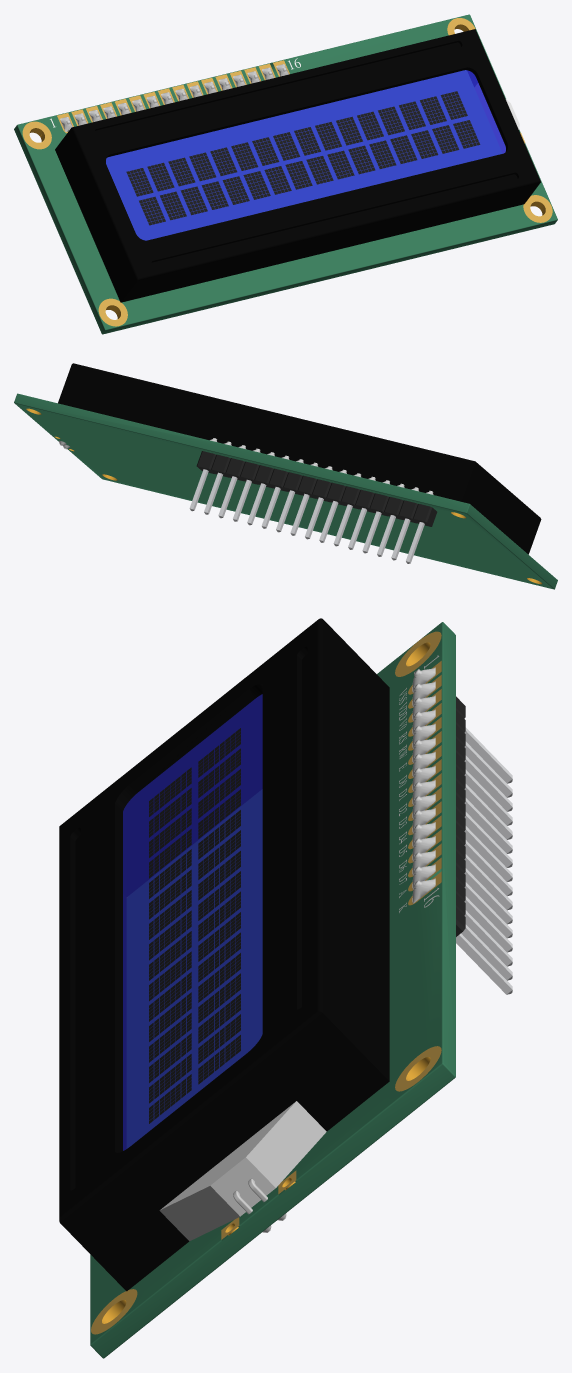
File: 3. LCD 1602.gltf
3 views of the same model, one above another, from view 1: azimuth 30°, elevation 25°; view 2: azimuth 150°, elevation 25°; view 3: azimuth 270°, elevation 25° (orthographic). The views are drawn at different scales.
Parts seen in each view (by area): view 1: Display LCD 16x2.001; view 2: Display LCD 16x2.001; view 3: Display LCD 16x2.001.
Part boxes in pixels (<box>): Display LCD 16x2.001: <box>14,14,557,334</box>; Display LCD 16x2.001: <box>14,363,557,589</box>; Display LCD 16x2.001: <box>59,618,512,1358</box>.
Bounding box in the file's own units: 0.0796 × 0.0271 × 0.0345.
